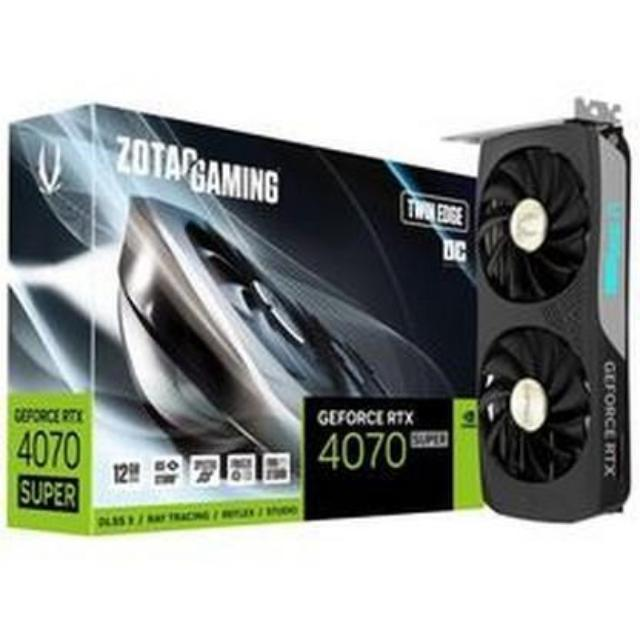GPU: (466, 91, 637, 526)
